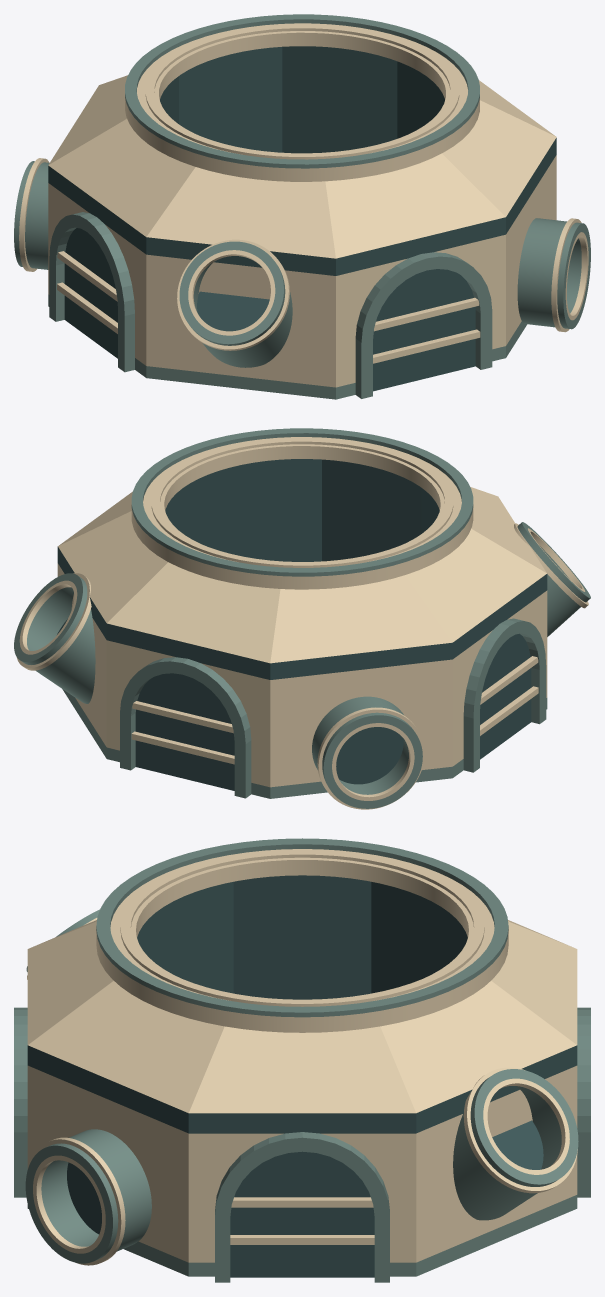
The picture shows the model from 3 angles, top to bottom: view 1: azimuth 30°, elevation 25°; view 2: azimuth 150°, elevation 25°; view 3: azimuth 270°, elevation 25°; orthographic projection. The views are drawn at different scales.
Visible parts, largest first — view 1: Node_Base; view 2: Node_Base; view 3: Node_Base.
Part boxes in pixels (x1,y1,x2,y2): Node_Base: (14, 14, 590, 399); Node_Base: (14, 428, 590, 809); Node_Base: (14, 838, 590, 1282).
Bounding box in the file's own units: 3.36 × 1.54 × 3.36.
